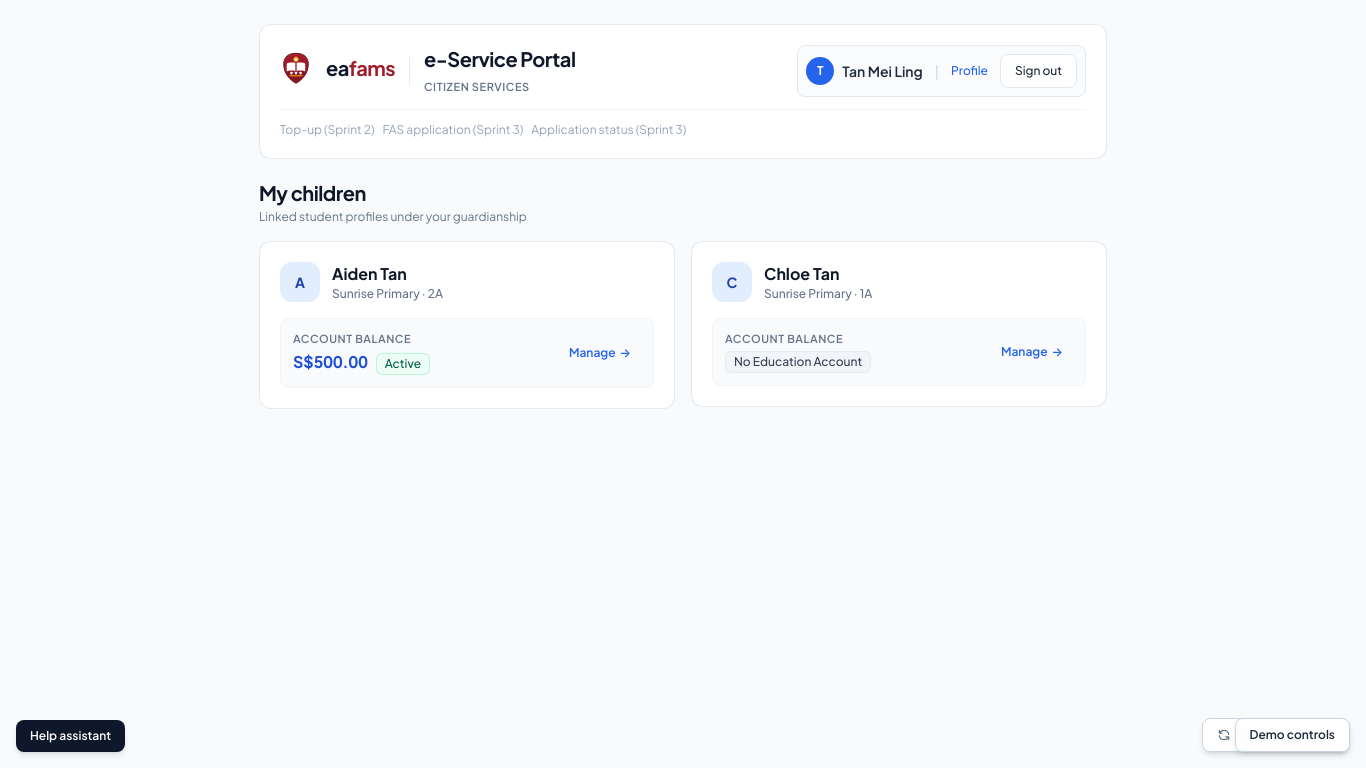
Test: Send is disabled for empty input and the badge says the assistant is scripted
The image size is (1366, 768).
Click the button "Help assistant": (71, 736) x1=16 y1=720 x2=125 y2=752
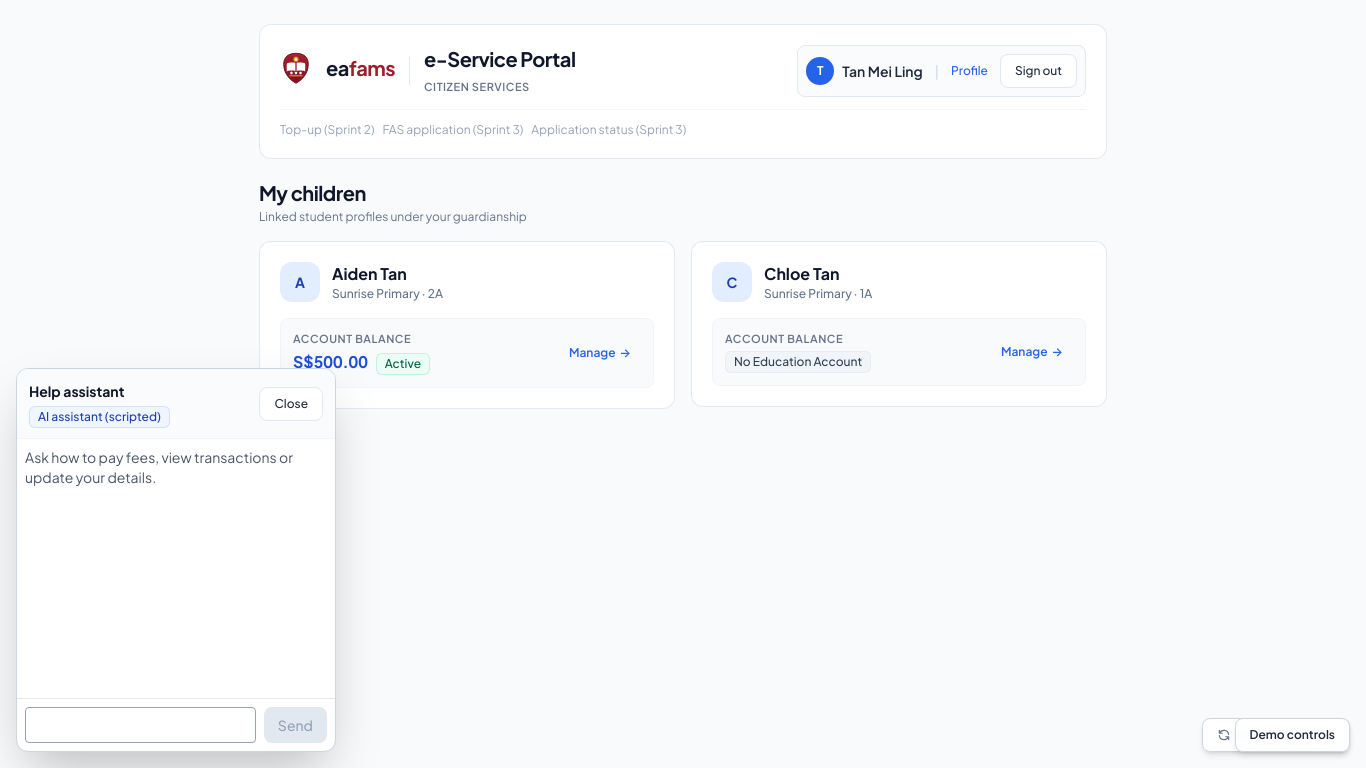
Now the button "Send" is disabled, box x1=264 y1=707 x2=327 y2=743
Now the text "AI assistant (scripted)" is shown, box x1=29 y1=406 x2=170 y2=428
